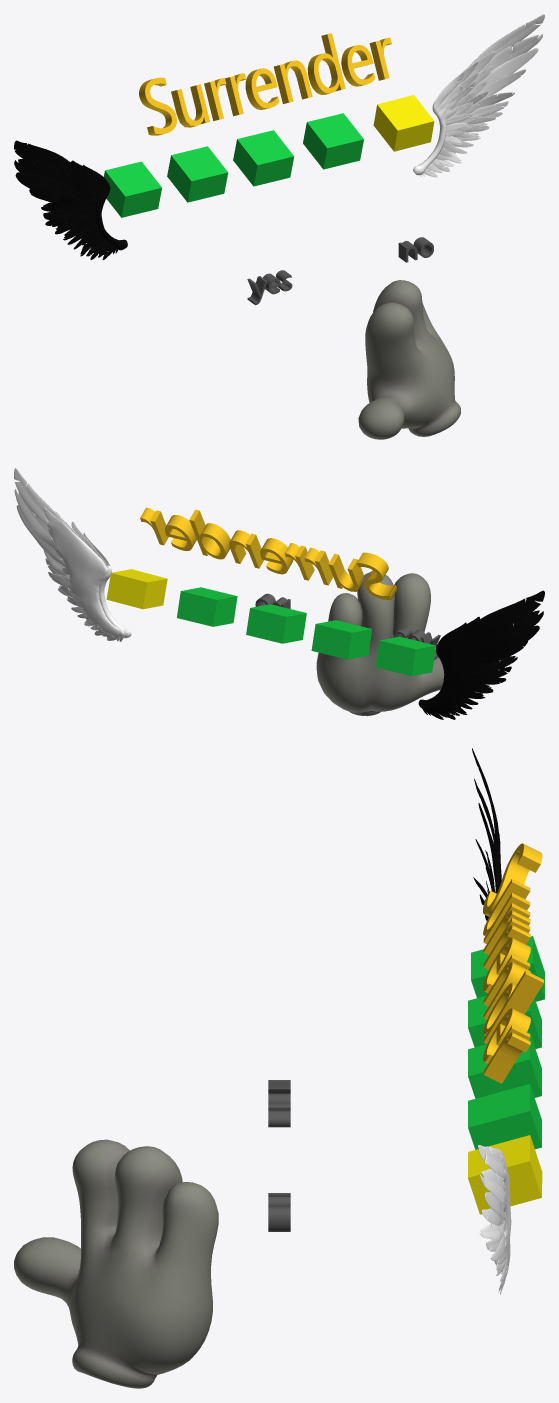
Rendered from peotic moment.fbx.
3 renders of one model, top to bottom at view 1: azimuth 30°, elevation 25°; view 2: azimuth 150°, elevation 25°; view 3: azimuth 270°, elevation 25°, orthographic. The views are drawn at different scales.
Parts seen in each view (by area): view 1: root (×5), node_id165, node_id70, node_id171, node_id179, node_id110, node_id135; view 2: root (×5), node_id165, node_id179, node_id70, node_id171, node_id110, node_id135; view 3: node_id165, root (×5), node_id70, node_id171, node_id179, node_id110, node_id135.
Boxes of the visible parts, bbox=[...] form: root (×5): bbox=[103, 95, 434, 217]; node_id165: bbox=[358, 280, 460, 439]; node_id70: bbox=[139, 33, 391, 135]; node_id171: bbox=[413, 14, 544, 177]; node_id179: bbox=[14, 140, 127, 259]; node_id110: bbox=[247, 270, 292, 305]; node_id135: bbox=[398, 237, 433, 262]; root (×5): bbox=[106, 569, 435, 676]; node_id165: bbox=[316, 572, 444, 716]; node_id179: bbox=[418, 590, 544, 719]; node_id70: bbox=[140, 507, 397, 599]; node_id171: bbox=[14, 468, 131, 641]; node_id110: bbox=[396, 626, 440, 660]; node_id135: bbox=[255, 593, 290, 608]; node_id165: bbox=[14, 1139, 218, 1388]; root (×5): bbox=[468, 936, 544, 1214]; node_id70: bbox=[483, 843, 543, 1083]; node_id171: bbox=[478, 1145, 511, 1294]; node_id179: bbox=[472, 748, 501, 925]; node_id110: bbox=[268, 1080, 290, 1127]; node_id135: bbox=[268, 1193, 290, 1231].
Size of the model in its own units: 0.6752 by 0.3533 by 0.3861.
Materials: 8 (8 with a texture image).
